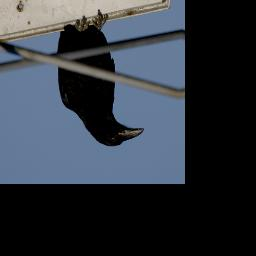Crow: (51, 7, 151, 150)
